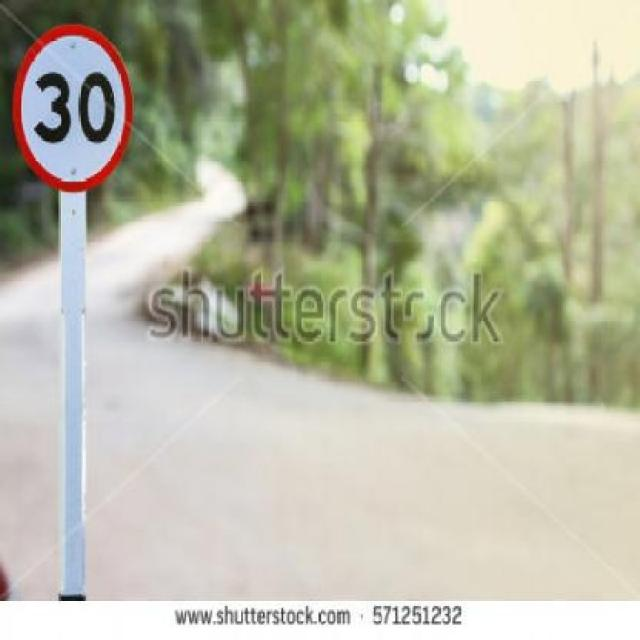forb_speed_over_30: (10, 20, 136, 198)
